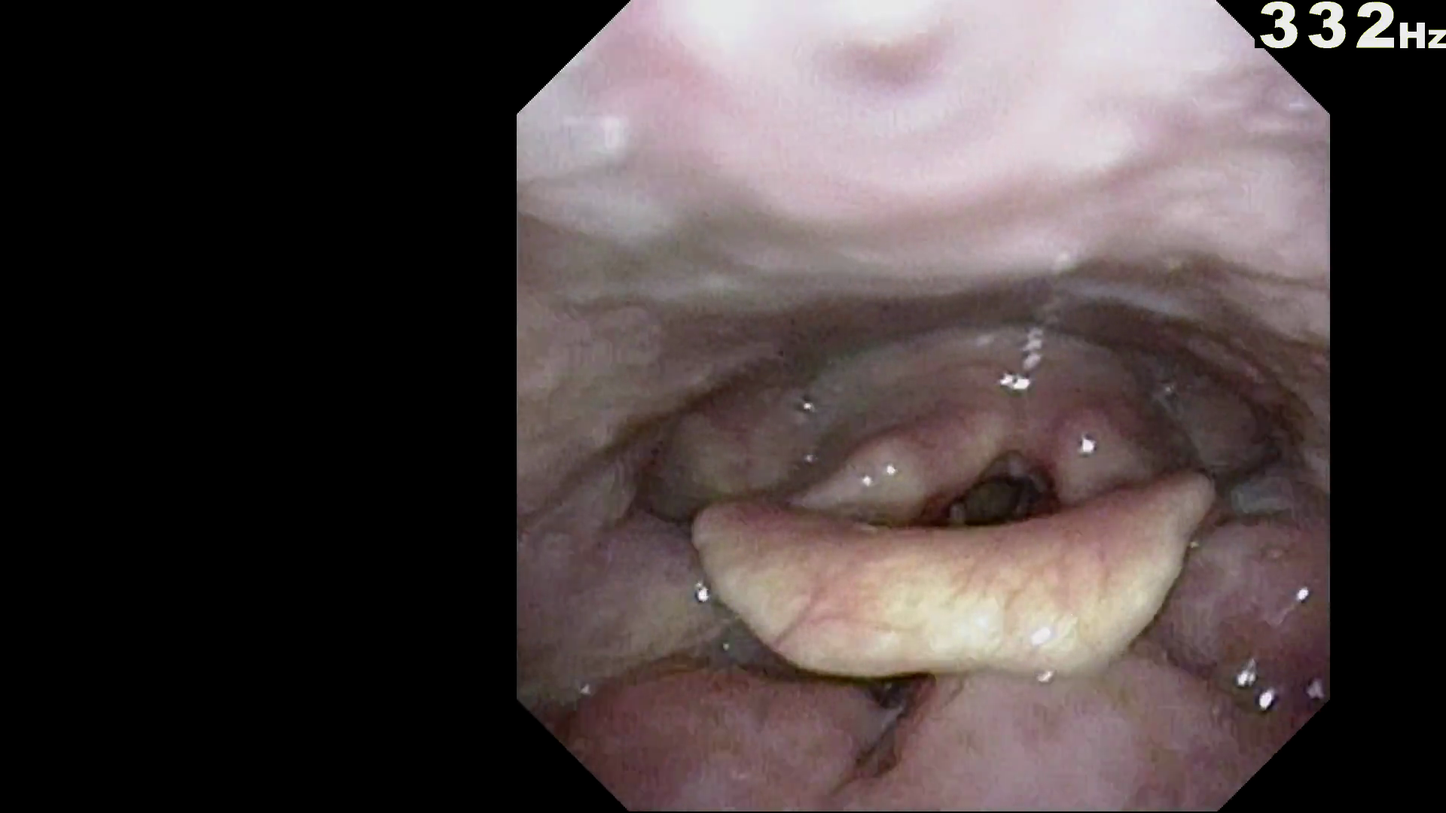epiglottis: (685, 500, 1227, 681)
trachea: (937, 449, 1055, 564)
